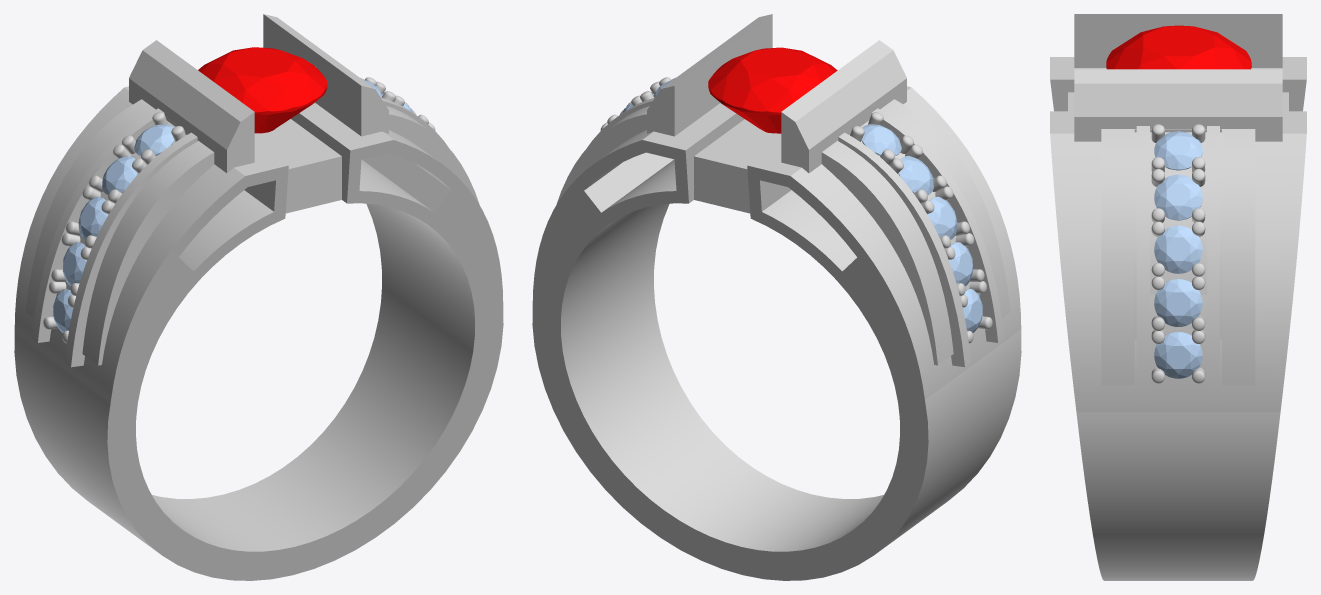
3 views of the same model, side by side, from view 1: azimuth 30°, elevation 25°; view 2: azimuth 150°, elevation 25°; view 3: azimuth 270°, elevation 25° (orthographic). The views are drawn at different scales.
Visible parts, largest first — view 1: PRONG HEAD ROUND, GG_Round (×6); view 2: PRONG HEAD ROUND, GG_Round (×6); view 3: PRONG HEAD ROUND, GG_Round (×6).
Part boxes in pixels (<box>): PRONG HEAD ROUND: <box>14,14,503,580</box>; GG_Round (×6): <box>53,47,327,332</box>; PRONG HEAD ROUND: <box>532,14,1021,580</box>; GG_Round (×6): <box>708,47,982,332</box>; PRONG HEAD ROUND: <box>1050,14,1306,580</box>; GG_Round (×6): <box>1106,25,1251,378</box>.
Bounding box in the file's own units: 2.52 × 2.83 × 1.27.
